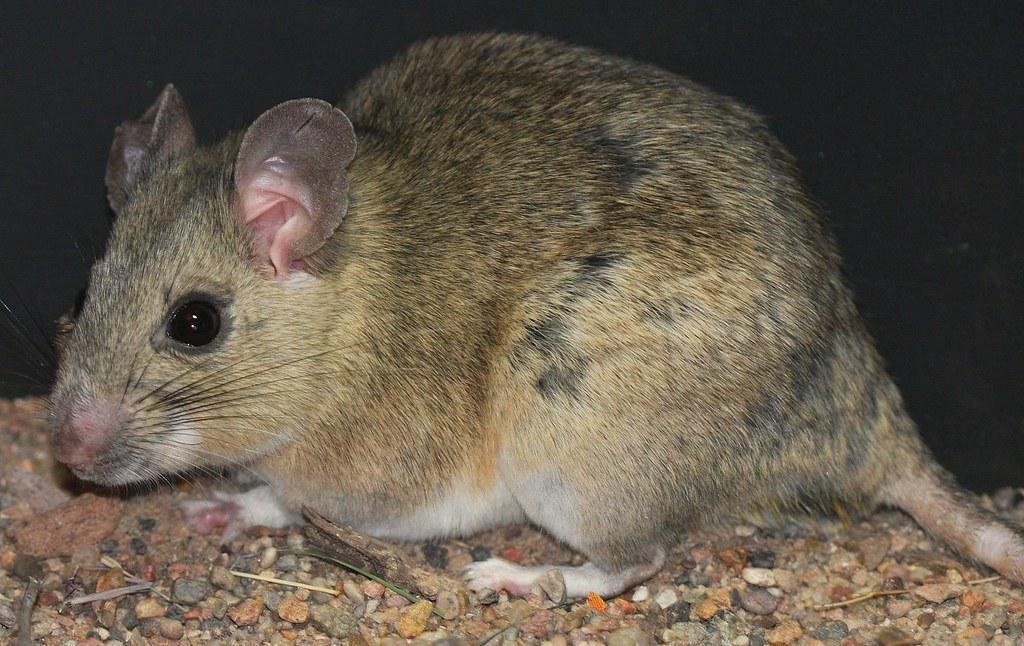rat: (47, 31, 1024, 592)
